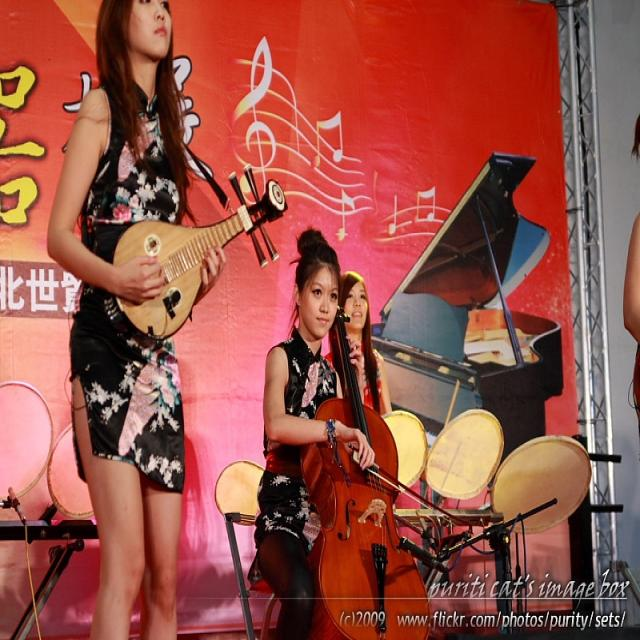cello: (298, 286, 431, 640)
